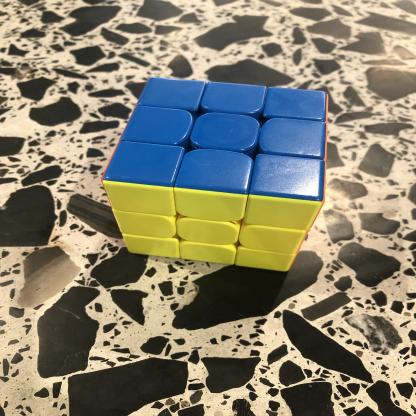SolvedCube: (97, 61, 333, 293)
